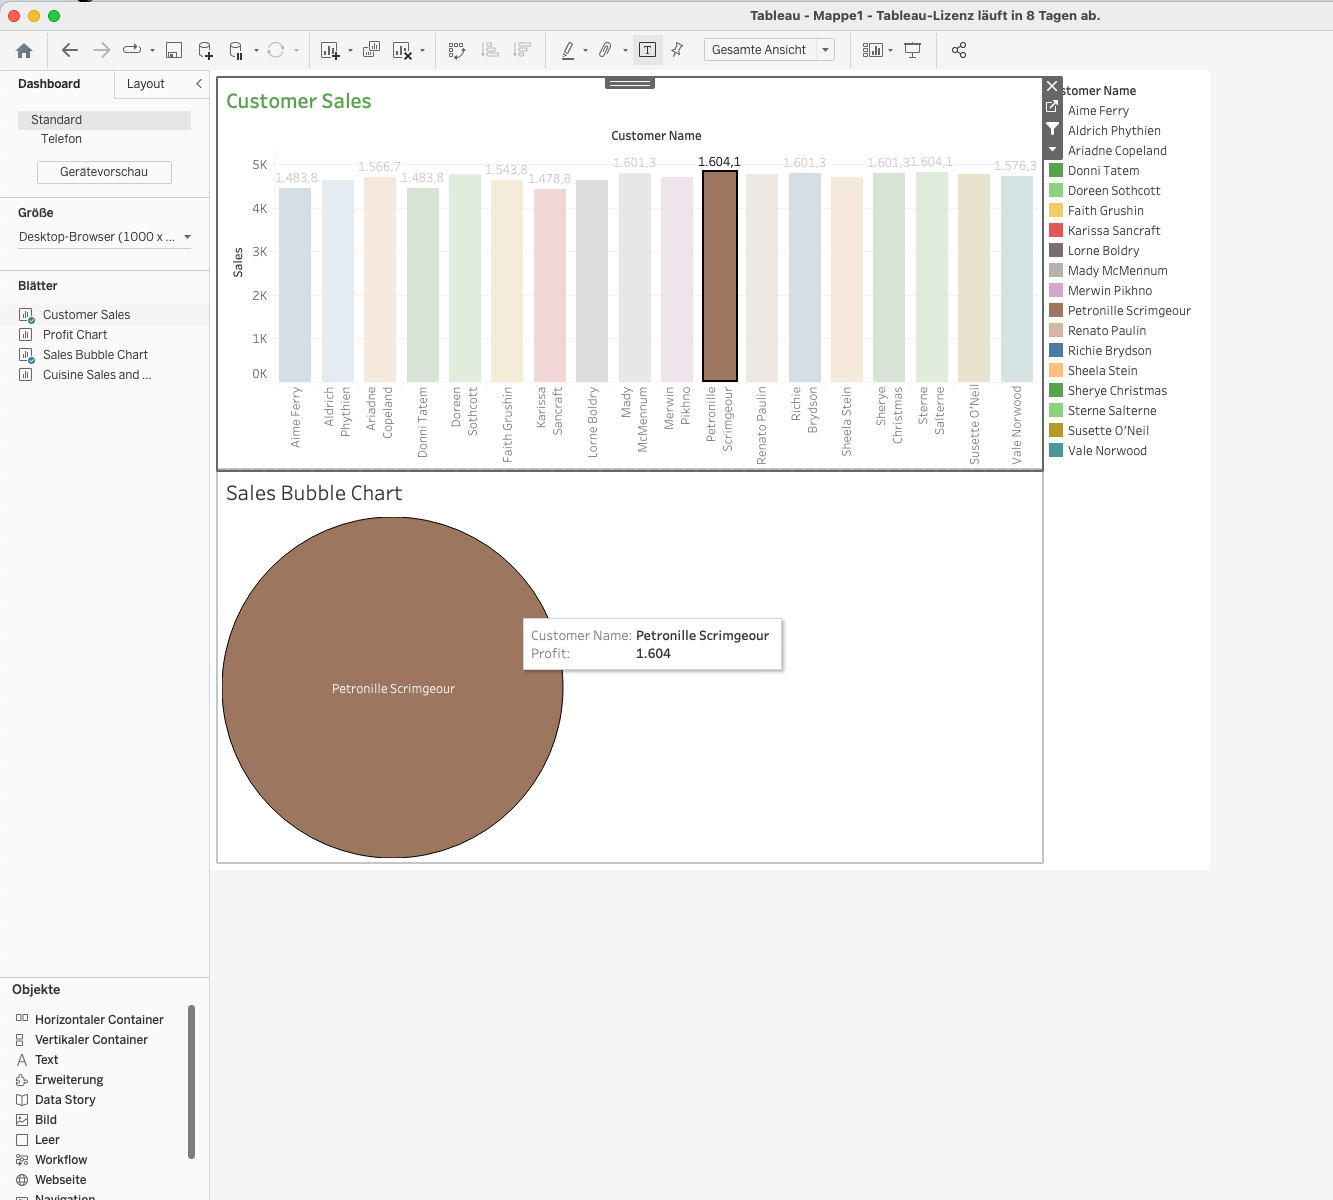

What the dashboard file says about the page in this screenshot:
{"tool":"tableau","page":{"name":"Customer Dashboard","canvas":[1000,800],"ordinal":0},"visuals":[{"type":"worksheet","title":"Customer Sales","mark":"Automatic","rows":["Sales"],"cols":["Customer Name"],"box":[8,8,824,392]},{"type":"legend","title":"Customer Sales","param":"[federated.05t92bg0l3i7u0193dikt18hnntx].[none:Customer Name:nk]","box":[832,8,160,386]},{"type":"worksheet","title":"Sales Bubble Chart","mark":"Circle","box":[8,400,824,392]}]}

Visuals, with their boxes on the page's 1000x800 design canvas (x1, y1, x2, y2). These are canvas units, not pixel positions in the 1333x1200 screenshot, which may show the page scaled, cropped or inside an application window:
"Customer Sales" worksheet: Rect(8, 8, 832, 400)
"Customer Sales" legend: Rect(832, 8, 992, 394)
"Sales Bubble Chart" worksheet (Circle marks): Rect(8, 400, 832, 792)
